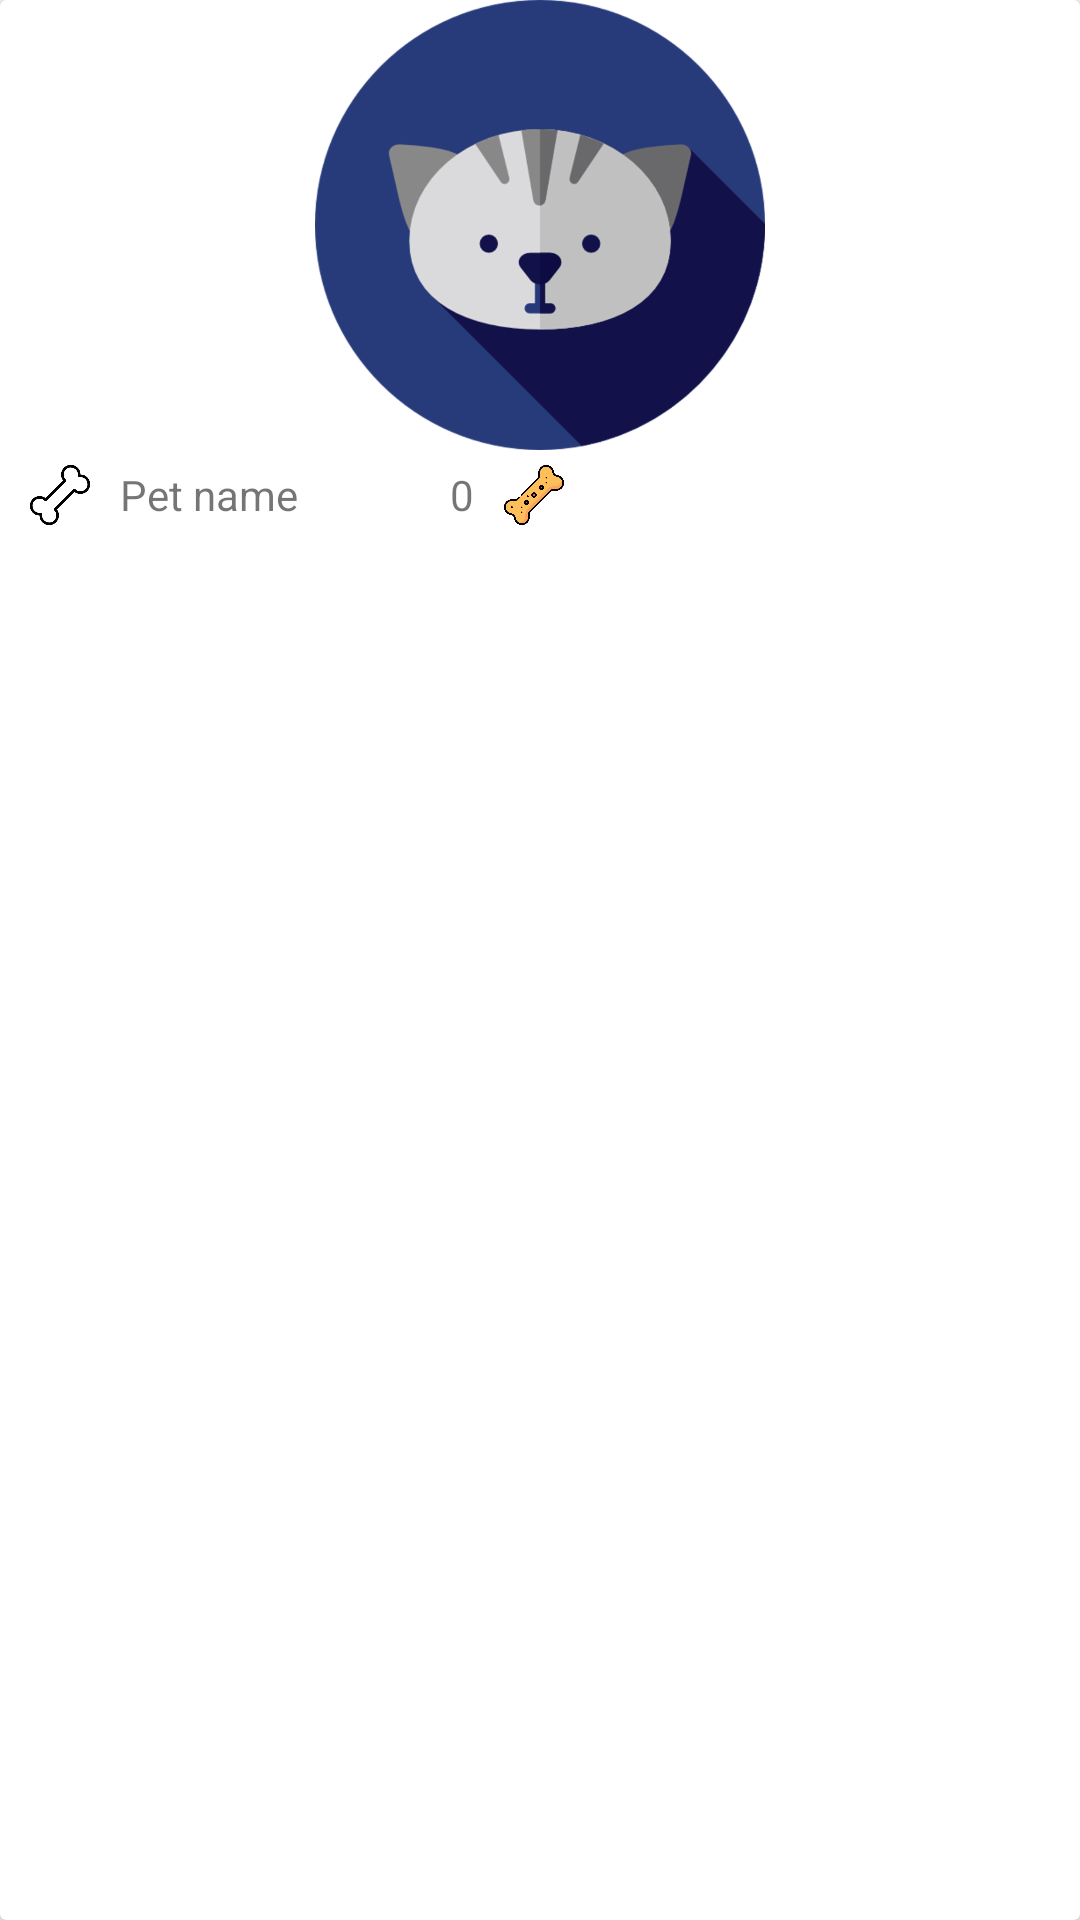

Locate icon controls on the screen. Image size 1080w x 1920h, boxes as (x1, y1, x2, y2).
bone: (30, 465, 90, 525), (504, 465, 564, 525)
